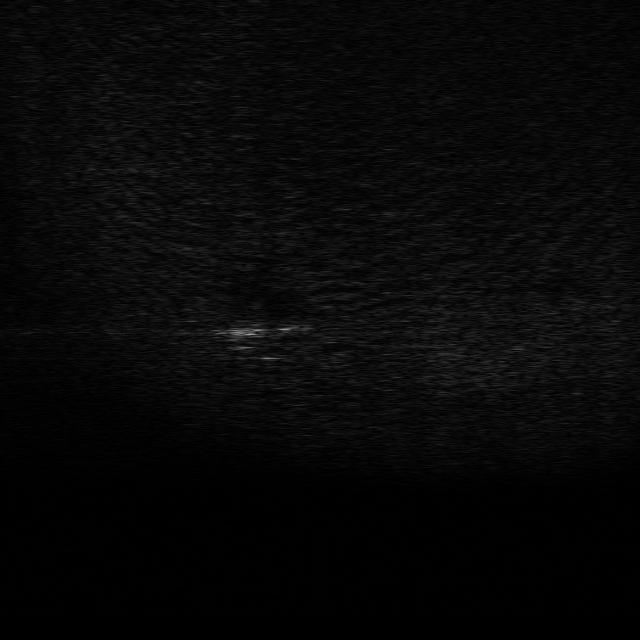plane: (215, 316, 316, 362)
